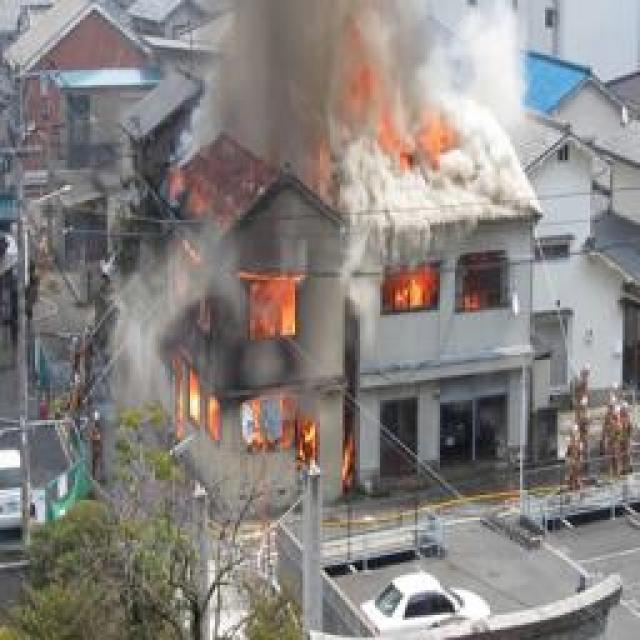Fire: (175, 136, 322, 466), (350, 54, 460, 158), (384, 266, 496, 316)
